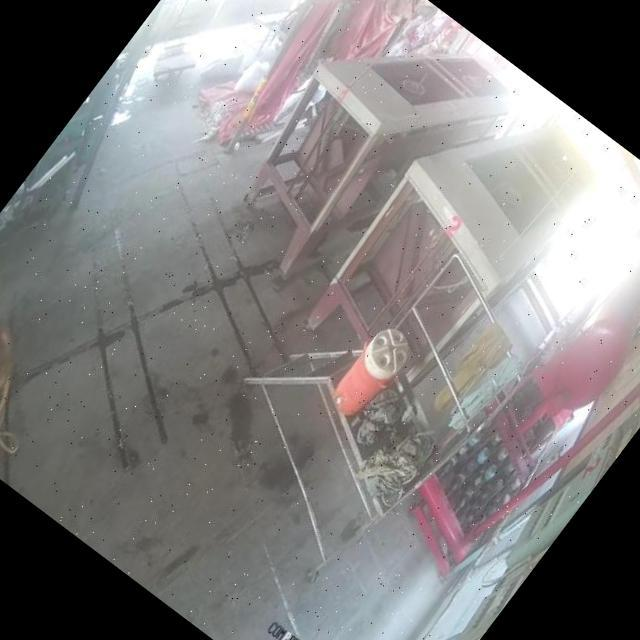person: (0, 269, 66, 456)
